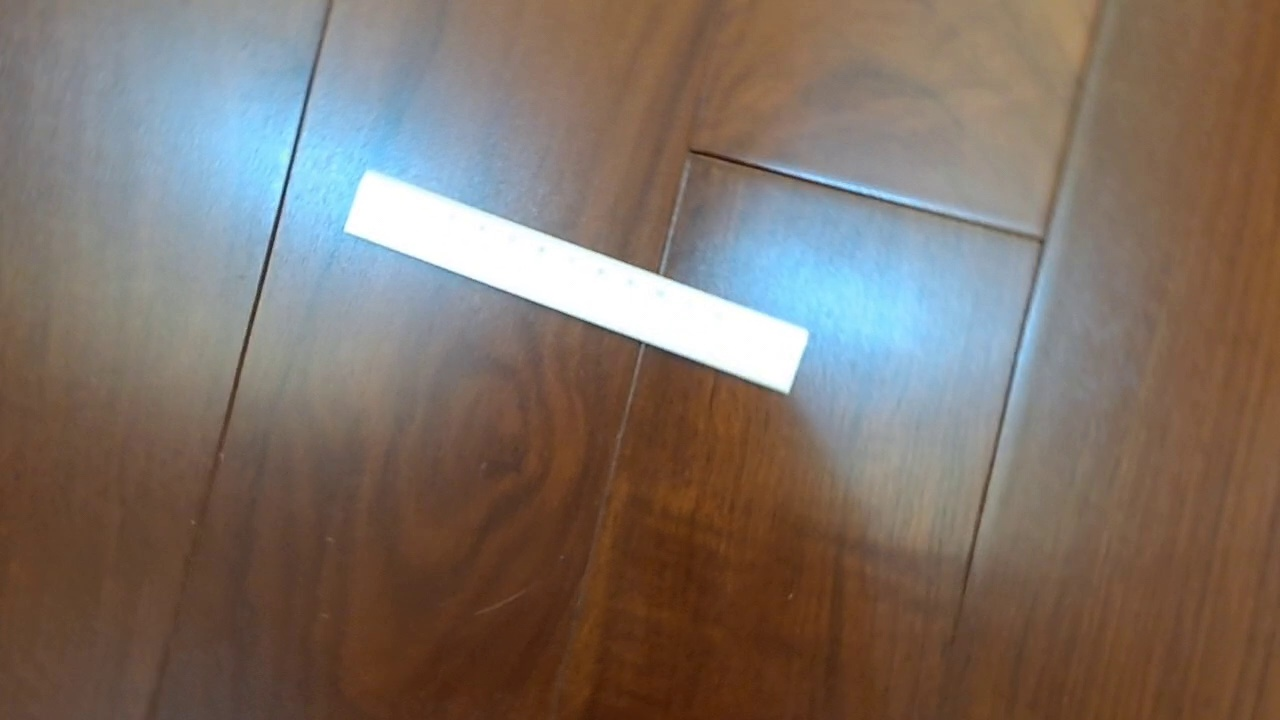ruler: (341, 166, 812, 398)
